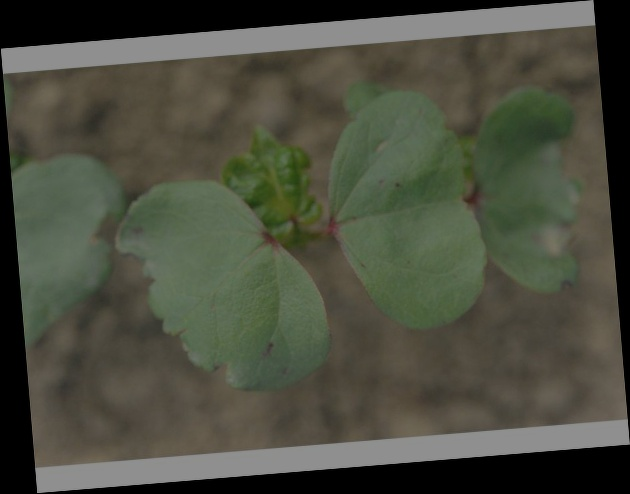cotton: (18, 98, 584, 385)
